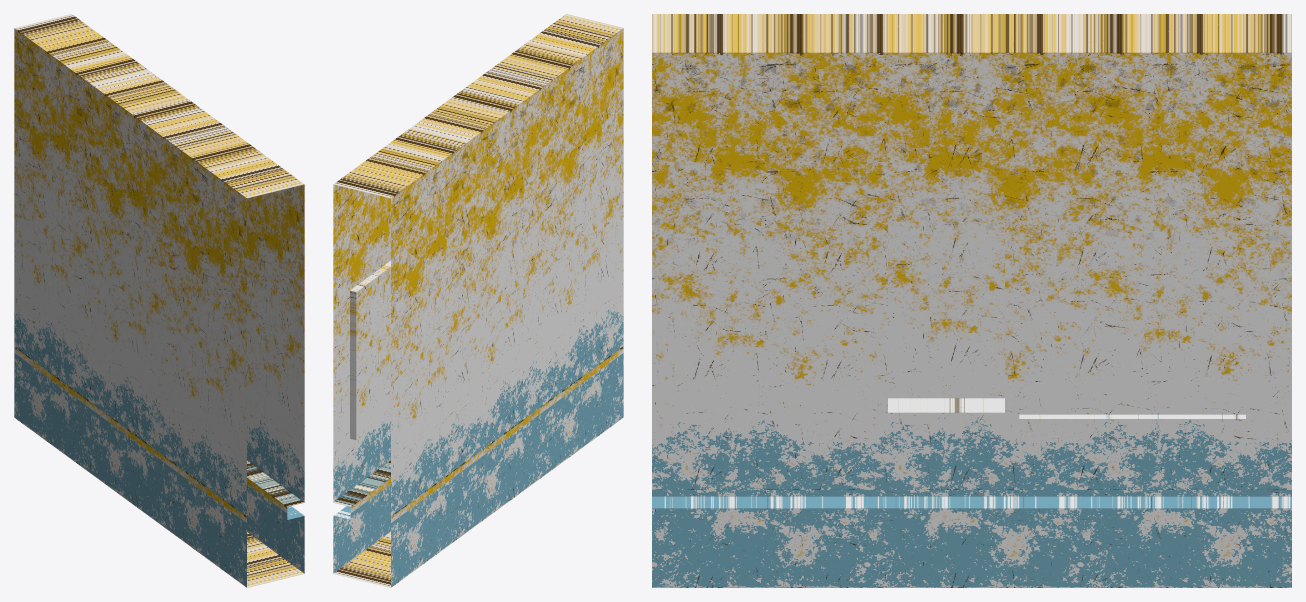
File: Modular_Dungeon_wall_generator_left.fbx
The picture shows the model from 3 angles, left to right: view 1: azimuth 30°, elevation 25°; view 2: azimuth 150°, elevation 25°; view 3: azimuth 270°, elevation 25°; orthographic projection. The views are drawn at different scales.
Visible parts, largest first — view 1: Wand_Display/Fach_Li_lo; view 2: Wand_Display/Fach_Li_lo; view 3: Wand_Display/Fach_Li_lo.
Part boxes in pixels (left/top/right/bottom): Wand_Display/Fach_Li_lo: left=14, top=14, right=304, bottom=587; Wand_Display/Fach_Li_lo: left=333, top=14, right=623, bottom=587; Wand_Display/Fach_Li_lo: left=652, top=14, right=1291, bottom=587.
Bounding box in the file's own units: 40 × 259 × 280.
